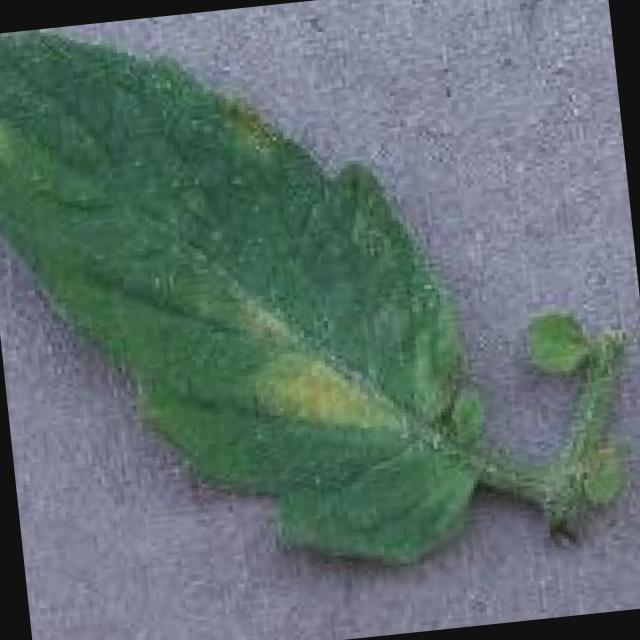leaf mold: (0, 32, 573, 563)
